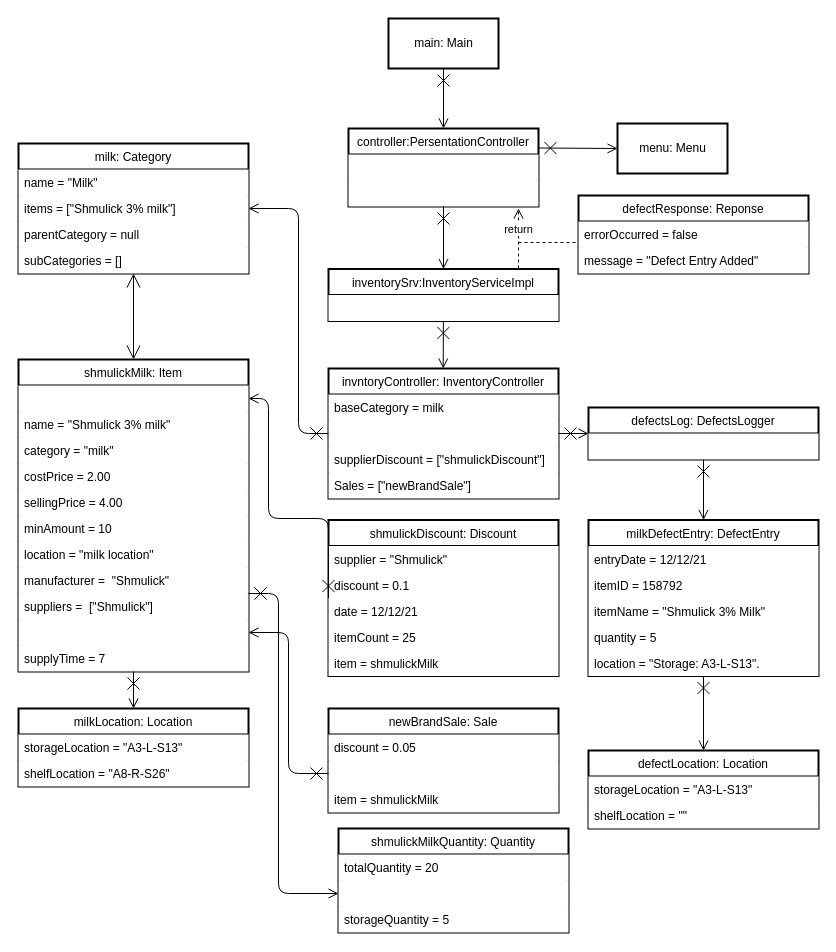
This 836x952 diagram has some shape labels left out. Here are the shapes that lost their labels. From the top down, the centre of each, then its label:
At (443,167): "InventoryService= inventorySrv".
At (443,193): "manu = manu".
At (443,307): "InventoryController = invntoryController".
At (133,398): "ID = 158792".
At (443,433): "defectsLogger = defactsLog".
At (703,446): "defects = [milkDefectEntry]".
At (133,632): "quantity = shmulickMilkQuantity".
At (443,773): "date = (12/12/21, 16/12/21)".
At (453,893): "shelfQuantity = 15".
